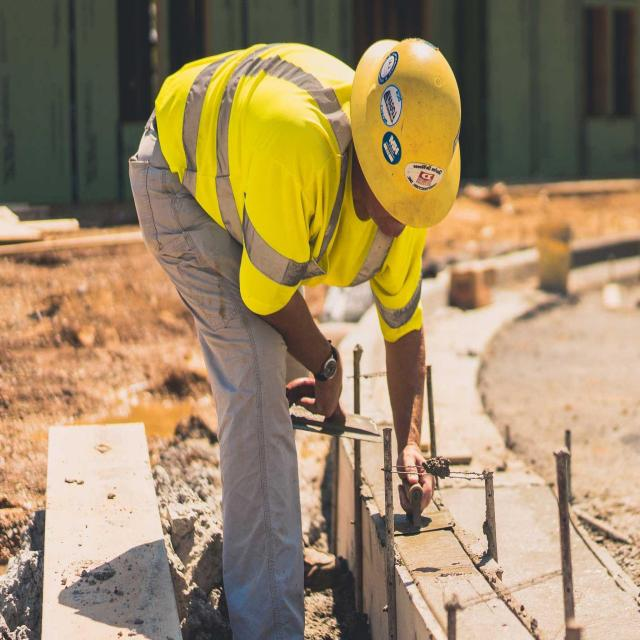Reflective-Jacket: (156, 38, 348, 313)
Safety-Helmet: (349, 29, 464, 232)
